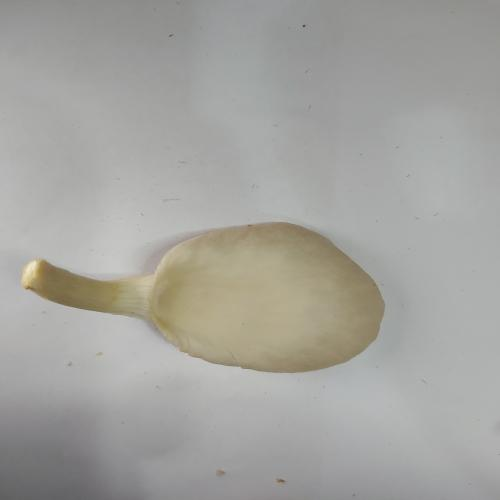Oyster Mushroom: (20, 220, 386, 374)
